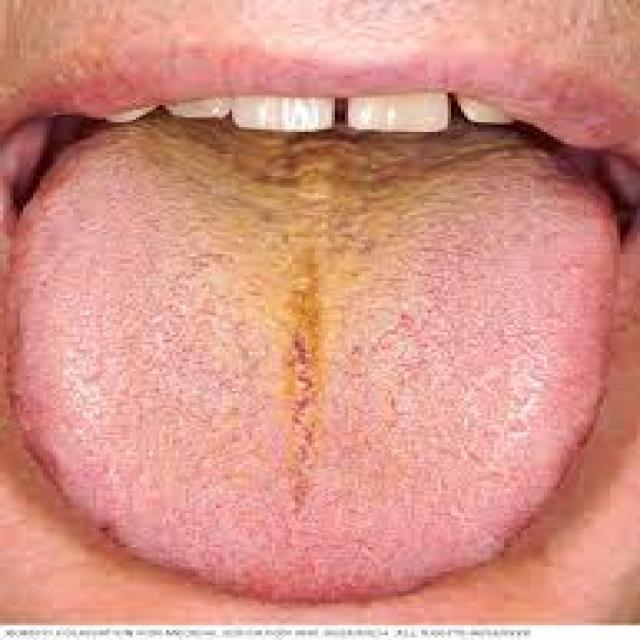discolored_patch: (0, 109, 623, 603)
